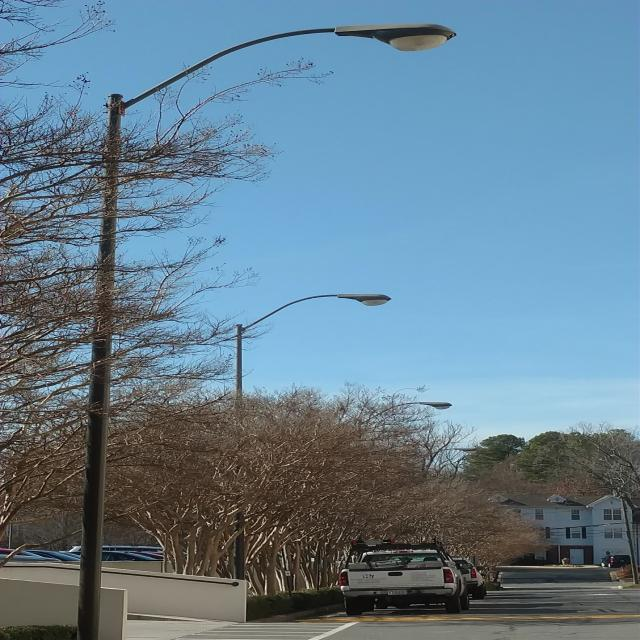Electric pole: (76, 23, 454, 640)
